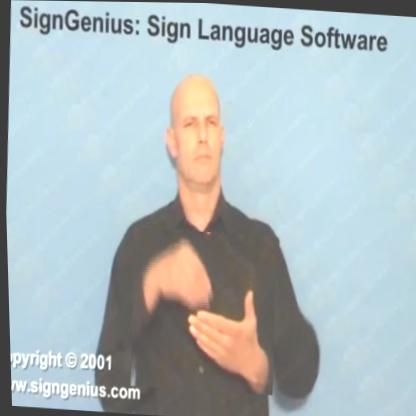Expensive: (124, 226, 279, 394)
